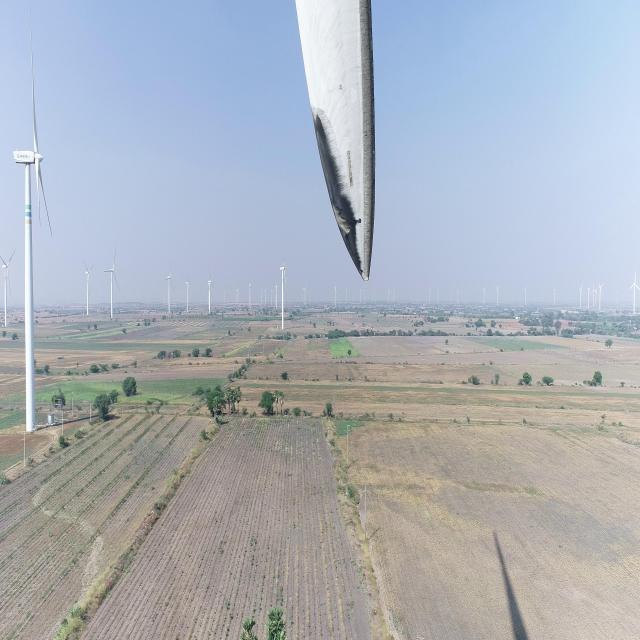Dirt: (308, 0, 375, 279)
Oil LEAKAGE: (311, 116, 366, 279)
Pin Hole: (335, 80, 348, 95), (349, 216, 364, 228)
